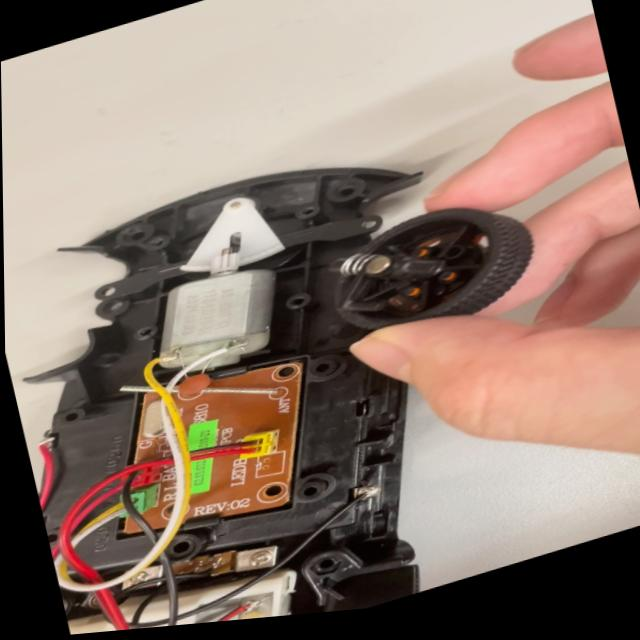motor: (137, 243, 290, 395)
wheel: (319, 183, 538, 356)
